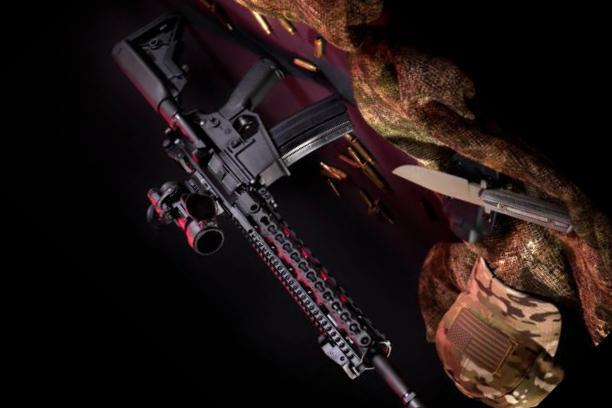larga: (114, 11, 427, 408)
